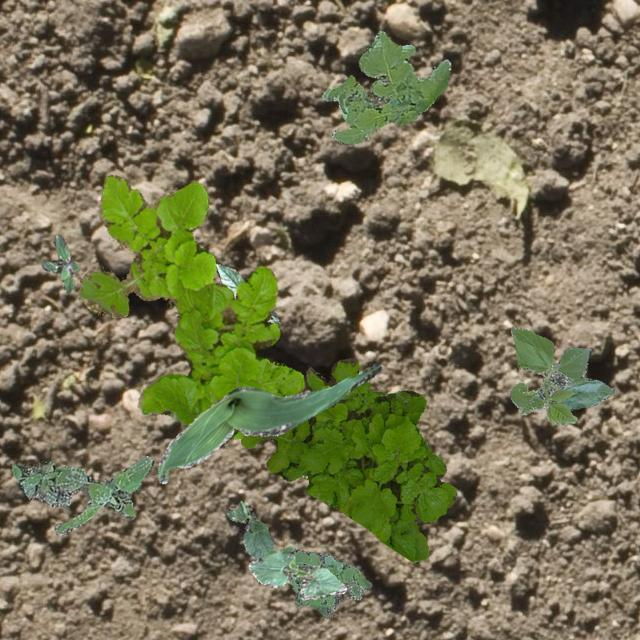crop: (157, 362, 380, 482), (510, 326, 614, 424), (248, 544, 346, 600), (214, 262, 278, 324), (225, 499, 272, 558)
weed: (78, 174, 302, 438), (240, 357, 456, 562), (320, 30, 450, 144), (11, 454, 152, 534), (288, 549, 371, 615), (41, 234, 78, 292)
